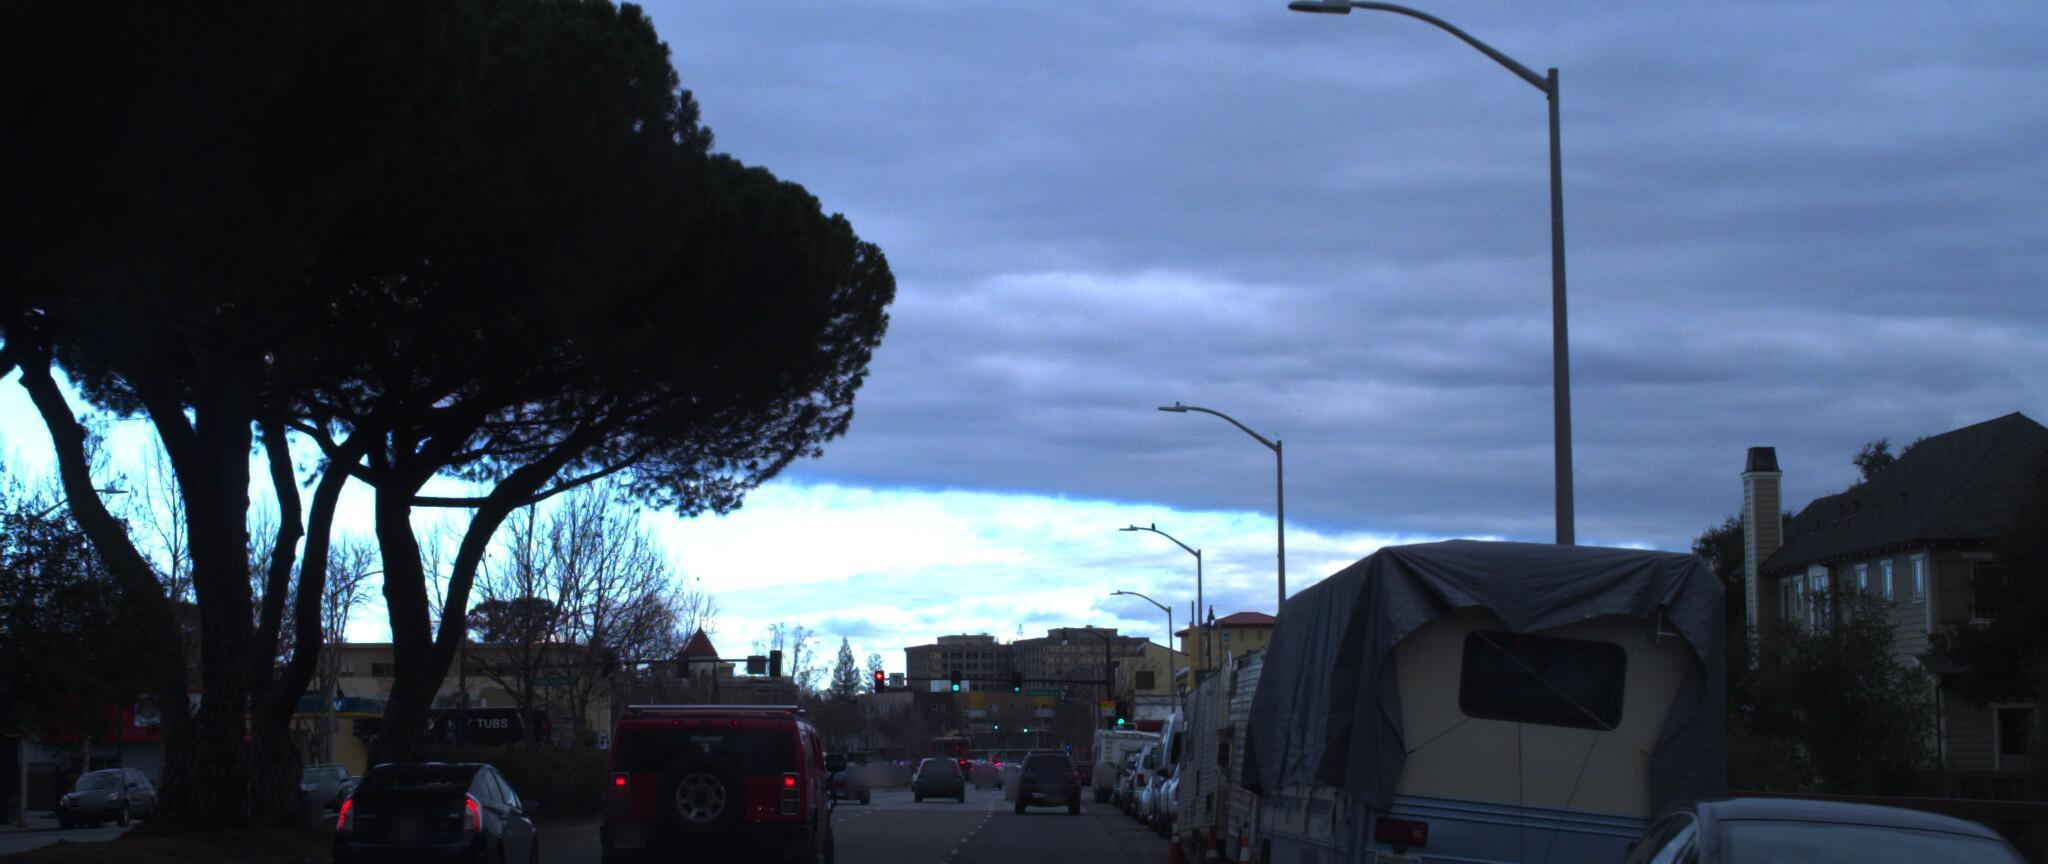car: (1533, 777, 2048, 864), (593, 694, 846, 864), (332, 754, 541, 864)
other_vehicle: (1246, 535, 1678, 864), (1209, 600, 1527, 864), (1173, 633, 1418, 864), (1144, 688, 1249, 824)
